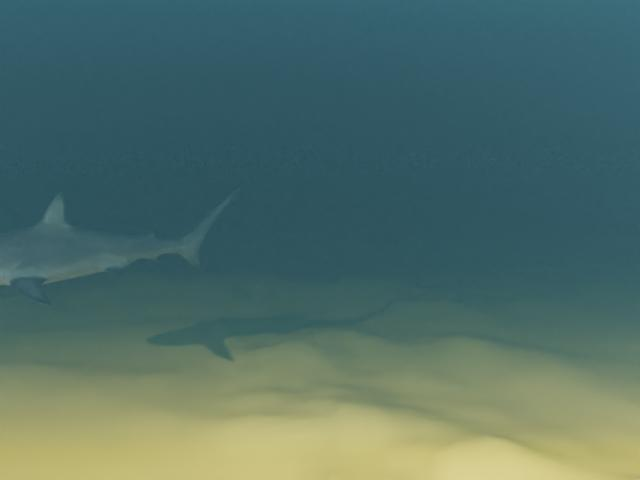Carribean Shark.001: (0, 188, 242, 306)
